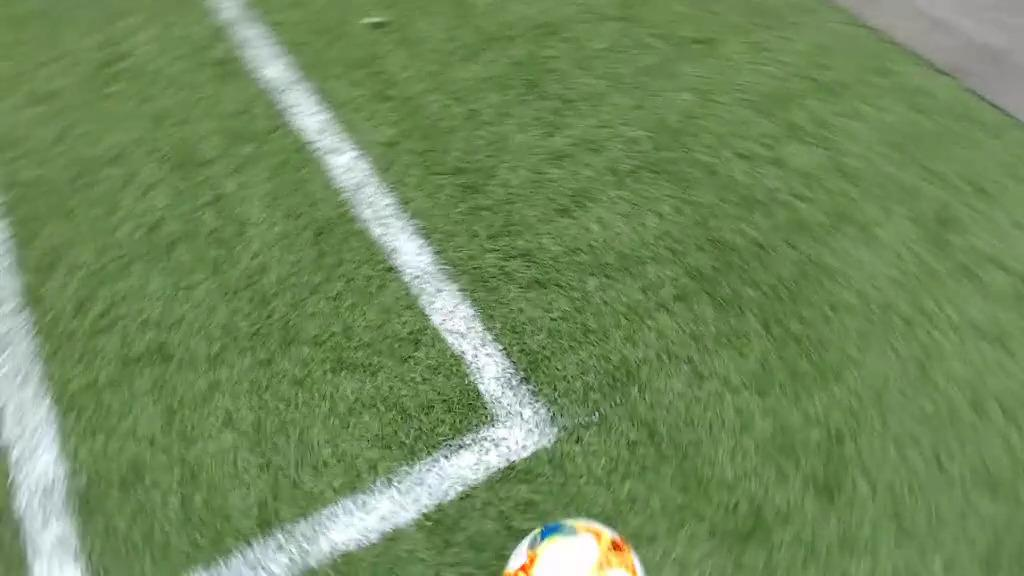ball: (500, 518, 647, 576)
